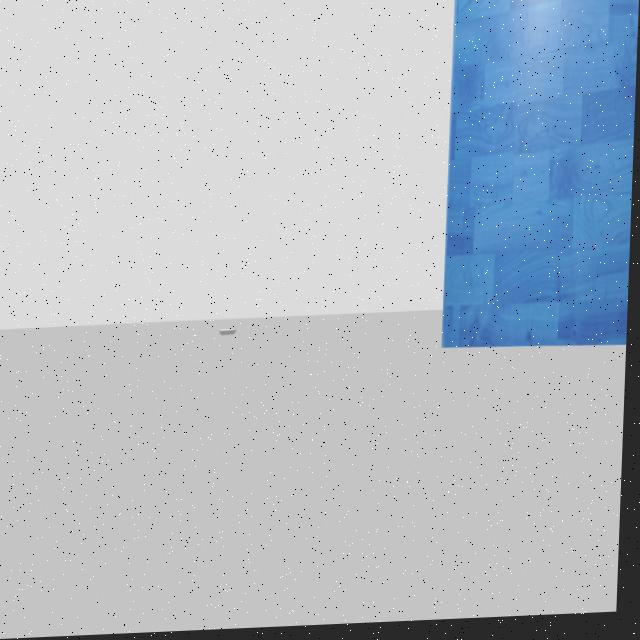bowl: (221, 321, 242, 342)
shelf: (422, 0, 640, 377)
